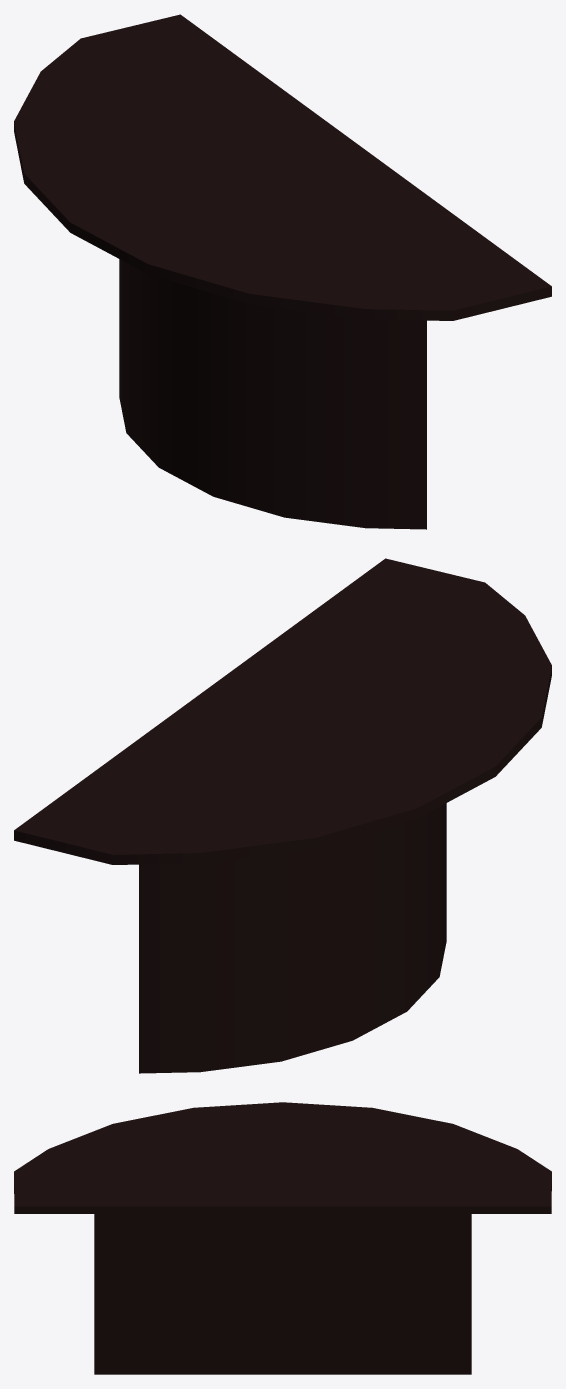
The model's file is MiniCounterTable.FBX.
3 renders of one model, top to bottom at view 1: azimuth 30°, elevation 25°; view 2: azimuth 150°, elevation 25°; view 3: azimuth 270°, elevation 25°, orthographic. The views are drawn at different scales.
Visible parts, largest first — view 1: MiniCounterTable; view 2: MiniCounterTable; view 3: MiniCounterTable.
Part boxes in pixels (x1,y1,x2,y2): MiniCounterTable: (14, 14, 551, 529); MiniCounterTable: (14, 558, 551, 1073); MiniCounterTable: (14, 1102, 551, 1374).
Size of the model in its own units: 22.04 by 18.98 by 48.01.
1 material, 1 textured.
